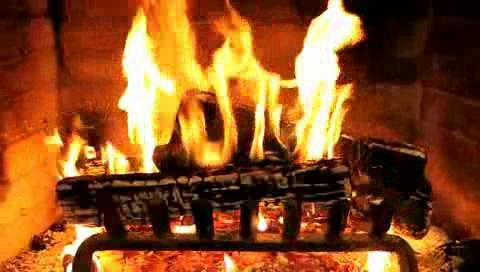fire: (114, 3, 364, 174)
